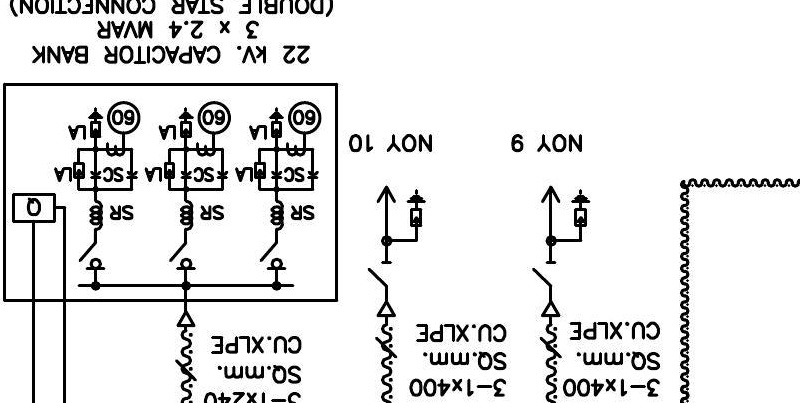22_cap_bank: (2, 82, 339, 303)
22_ds_la_out: (366, 184, 426, 287), (531, 184, 591, 286)
Q: (11, 192, 57, 224)
terminator_single: (176, 310, 197, 328), (376, 300, 396, 318), (541, 300, 561, 317)
